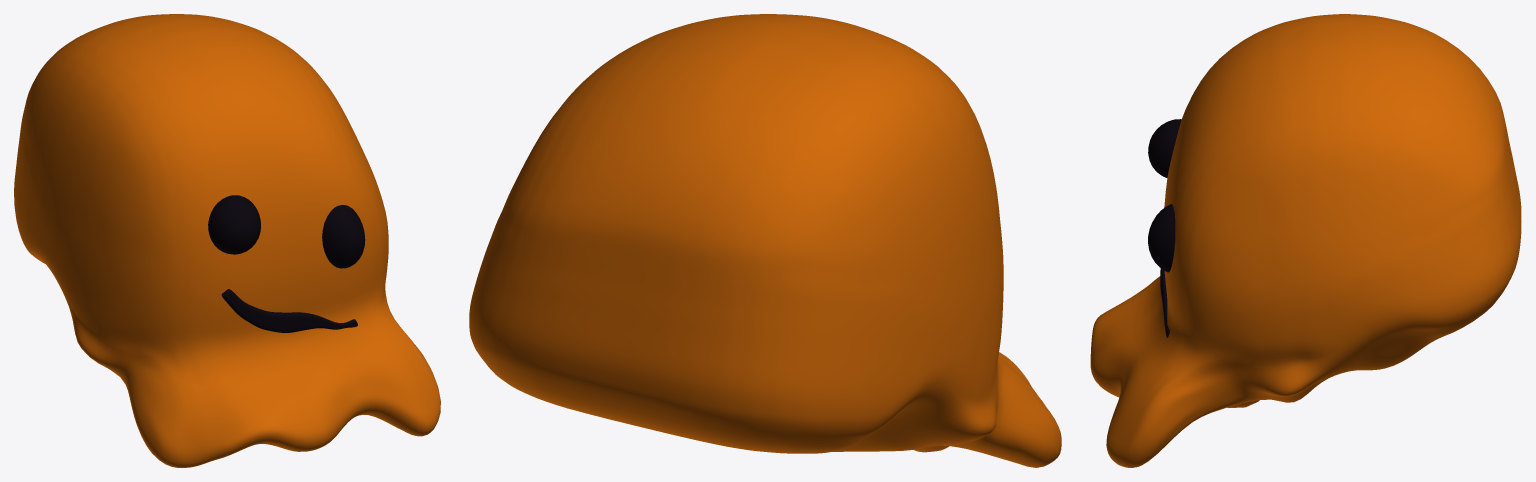
The model's file is Emoji 011 melting face.fbx.
3 views of the same model, side by side, from view 1: azimuth 30°, elevation 25°; view 2: azimuth 150°, elevation 25°; view 3: azimuth 270°, elevation 25° (orthographic). The views are drawn at different scales.
Visible parts, largest first — view 1: Emoji 011 melting face, Eyes.071, Cube.093; view 2: Emoji 011 melting face; view 3: Emoji 011 melting face, Eyes.071.
Boxes of the visible parts, x1=… form: Emoji 011 melting face: x1=14, y1=14, x2=440, y2=467; Eyes.071: x1=208, y1=195, x2=365, y2=268; Cube.093: x1=221, y1=289, x2=357, y2=332; Emoji 011 melting face: x1=469, y1=14, x2=1061, y2=467; Emoji 011 melting face: x1=1090, y1=14, x2=1521, y2=467; Eyes.071: x1=1148, y1=119, x2=1181, y2=272.
Bounding box in the file's own units: 95.65 × 118 × 109.
